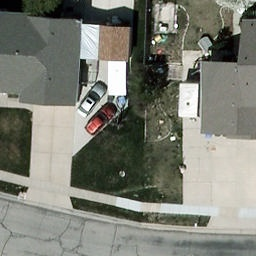camping car: (175, 84, 198, 120), (107, 60, 126, 97)
car: (73, 81, 107, 119), (83, 102, 116, 135)
